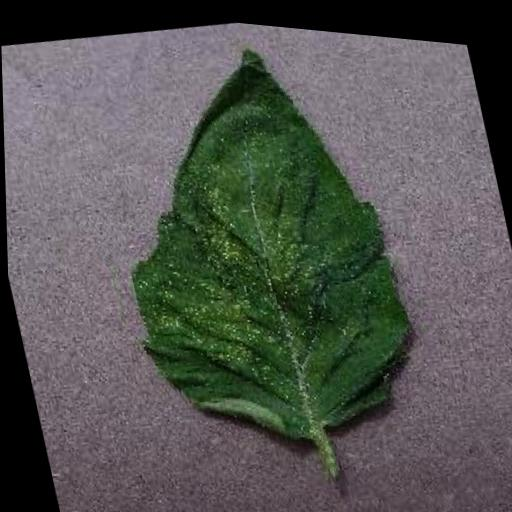Spider Mites: (80, 9, 436, 474)
